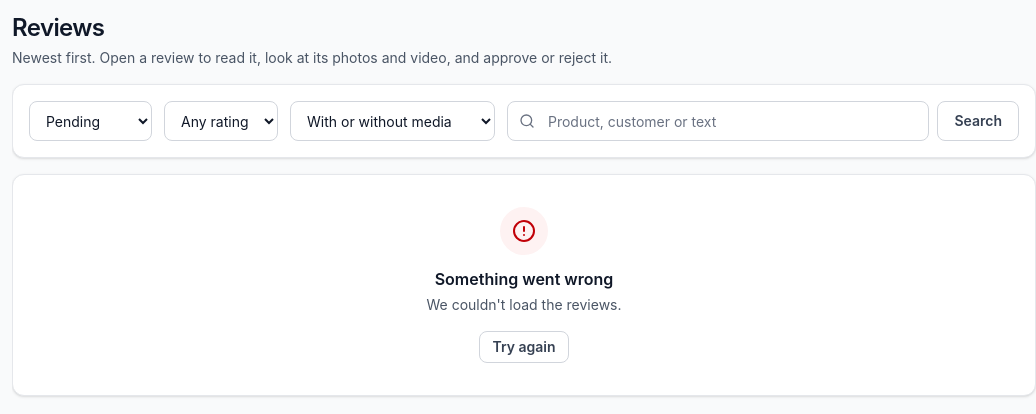
Test: AdminReviewsPage › shows an error with Try again, never an empty list
Expected: the text "We couldn't load the reviews." is shown, left=426, top=295, right=622, bottom=315
Click the button "Try again": (524, 347) left=480, top=331, right=569, bottom=363
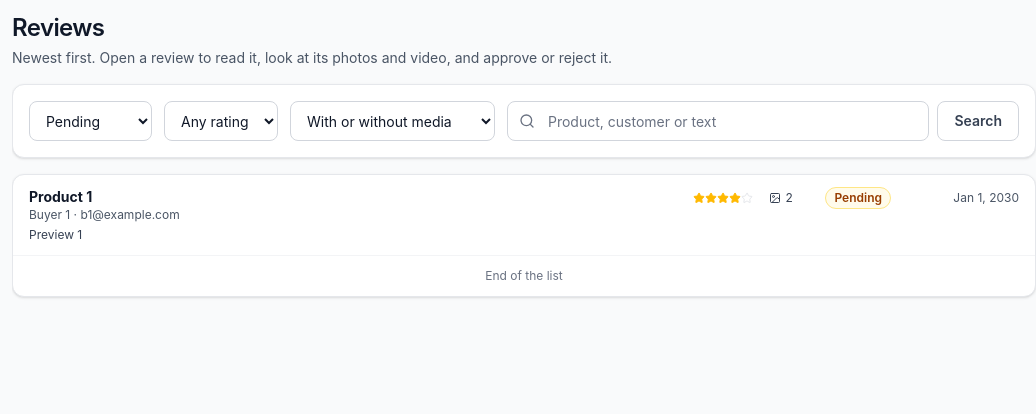
Now the text "Product 1" is shown, box left=29, top=188, right=92, bottom=205
